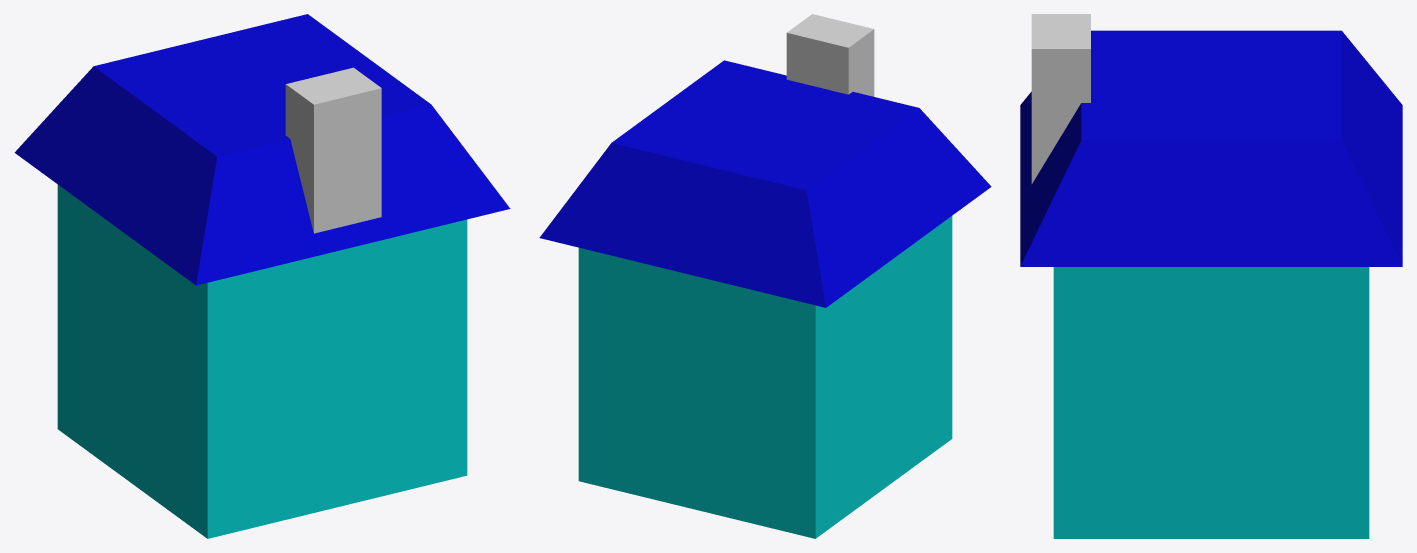
Rendered from House.fbx.
The picture shows the model from 3 angles, left to right: view 1: azimuth 30°, elevation 25°; view 2: azimuth 150°, elevation 25°; view 3: azimuth 270°, elevation 25°; orthographic projection. The views are drawn at different scales.
Visible parts, largest first — view 1: pCube1, pCube2; view 2: pCube1, pCube2; view 3: pCube1, pCube2.
Boxes of the visible parts, left/top/right/bottom form: pCube1: left=14, top=14, right=510, bottom=538; pCube2: left=285, top=67, right=381, bottom=233; pCube1: left=539, top=60, right=991, bottom=538; pCube2: left=786, top=14, right=874, bottom=96; pCube1: left=1020, top=30, right=1402, bottom=538; pCube2: left=1031, top=14, right=1090, bottom=183.
Bounding box in the file's own units: 2.42 × 3.07 × 2.42.
